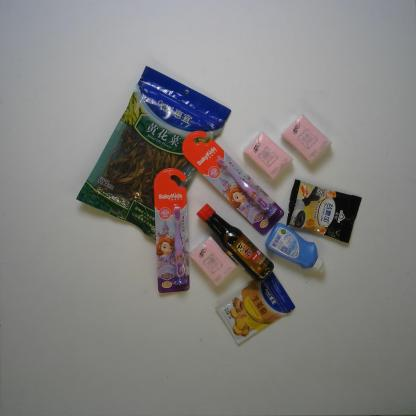Dried Food: (75, 65, 232, 241)
Instant Drink: (285, 179, 362, 244)
Personal Hygiene: (181, 130, 284, 234), (153, 167, 190, 294), (264, 223, 326, 274)
Seasoner: (196, 203, 274, 283), (214, 271, 295, 345)
Tissue: (280, 115, 332, 164), (242, 131, 294, 180), (189, 235, 237, 286)
